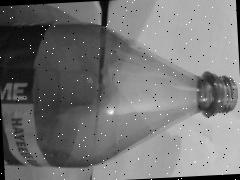plastic: (0, 11, 240, 171)
